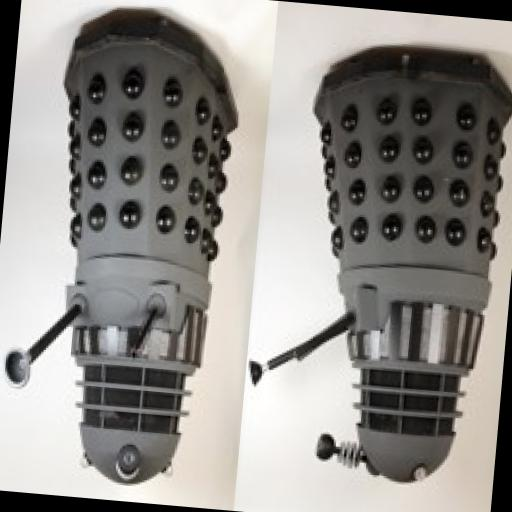dalek: (241, 26, 512, 496), (0, 0, 257, 492)
